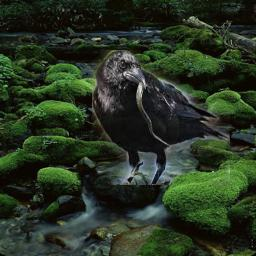Crow: (92, 50, 230, 185)
